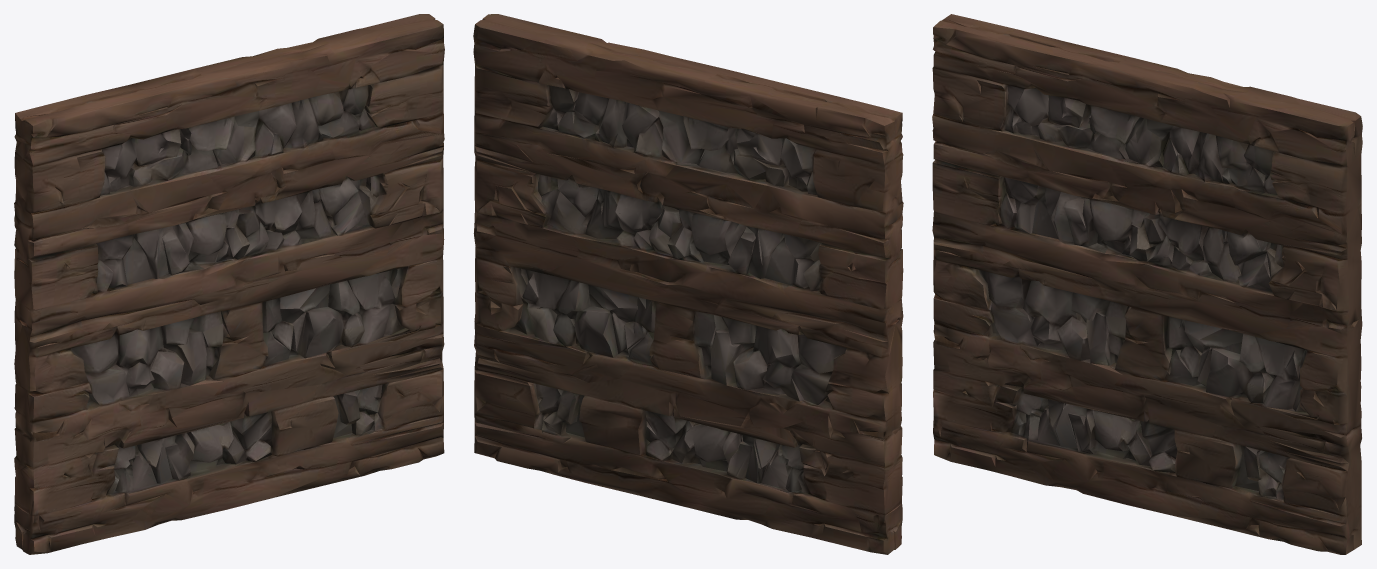
Rendered from mine_wall_planks_stone_b_idle.glb.
3 renders of one model, left to right at view 1: azimuth 30°, elevation 25°; view 2: azimuth 150°, elevation 25°; view 3: azimuth 330°, elevation 25°, orthographic.
Parts seen in each view (by area): view 1: tripo_node_a7864568-1536-4b46-a66f-274bd732826f; view 2: tripo_node_a7864568-1536-4b46-a66f-274bd732826f; view 3: tripo_node_a7864568-1536-4b46-a66f-274bd732826f.
Boxes of the visible parts, bbox=[...] form: tripo_node_a7864568-1536-4b46-a66f-274bd732826f: bbox=[14, 14, 444, 554]; tripo_node_a7864568-1536-4b46-a66f-274bd732826f: bbox=[473, 14, 903, 554]; tripo_node_a7864568-1536-4b46-a66f-274bd732826f: bbox=[932, 14, 1362, 554].
Size of the model in its own units: 0.9997 by 0.9997 by 0.0996.
1 material, 1 textured.
